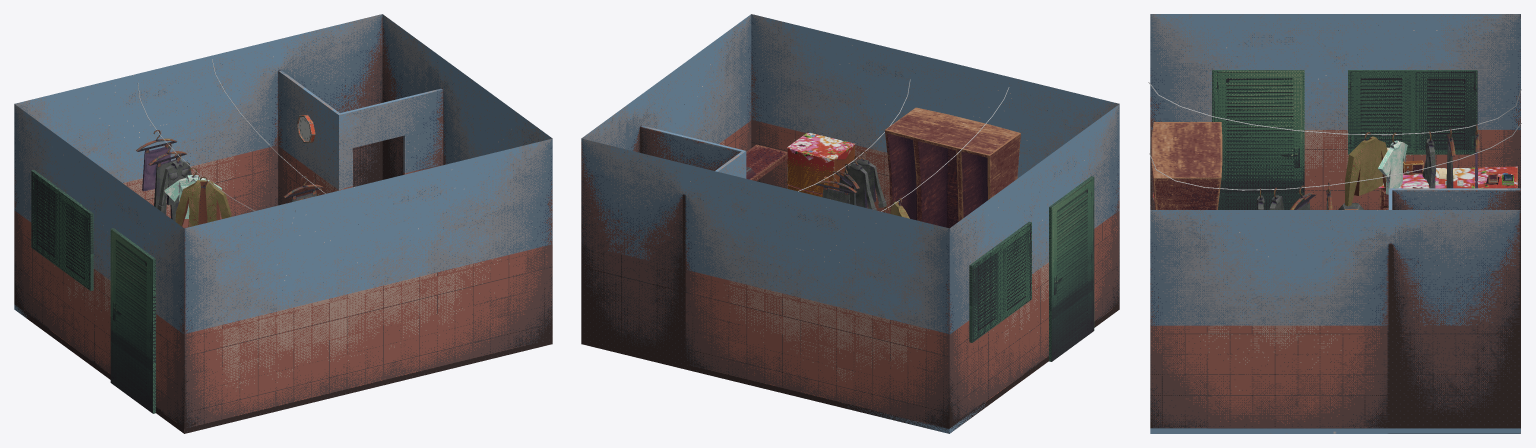
Rendered from Phong Quynh.fbx.
3 views of the same model, side by side, from view 1: azimuth 30°, elevation 25°; view 2: azimuth 150°, elevation 25°; view 3: azimuth 270°, elevation 25° (orthographic). The views are drawn at different scales.
Visible parts, largest first — view 1: floor, Cua chinh, Cuaso 1, Cuaso 2, ao khoac, quan short, ao bao ho, quan dai bao ho, somi; view 2: floor, tu do, Cua chinh, tu lanh, Cuaso 2, Cuaso 1, ke gia vi, ao bao ho.001, ao bao ho.002, quan dai bao ho.002; view 3: floor, Cua chinh, tu do, Cuaso 2, Cuaso 1, ao khoac, ban, somi, day phoi do, day phoi do.001, ao bao ho, quan dai bao ho.
Part boxes in pixels (x1=…): floor: x1=14, y1=14, x2=552, y2=433; Cua chinh: x1=110, y1=228, x2=155, y2=413; Cuaso 1: x1=61, y1=191, x2=93, y2=290; Cuaso 2: x1=31, y1=170, x2=63, y2=268; ao khoac: x1=175, y1=176, x2=231, y2=227; quan short: x1=136, y1=130, x2=176, y2=191; ao bao ho: x1=157, y1=153, x2=191, y2=211; quan dai bao ho: x1=148, y1=143, x2=186, y2=223; somi: x1=164, y1=167, x2=221, y2=218; floor: x1=581, y1=14, x2=1119, y2=433; tu do: x1=884, y1=107, x2=1020, y2=228; Cua chinh: x1=1049, y1=176, x2=1094, y2=361; tu lanh: x1=787, y1=132, x2=855, y2=197; Cuaso 2: x1=969, y1=243, x2=1001, y2=342; Cuaso 1: x1=999, y1=221, x2=1031, y2=320; ke gia vi: x1=746, y1=144, x2=787, y2=181; ao bao ho.001: x1=843, y1=155, x2=876, y2=210; ao bao ho.002: x1=850, y1=151, x2=886, y2=207; quan dai bao ho.002: x1=815, y1=171, x2=856, y2=203; floor: x1=1150, y1=14, x2=1520, y2=433; Cua chinh: x1=1212, y1=70, x2=1304, y2=209; tu do: x1=1151, y1=122, x2=1222, y2=209; Cuaso 2: x1=1413, y1=70, x2=1477, y2=154; Cuaso 1: x1=1348, y1=70, x2=1412, y2=154; ao khoac: x1=1345, y1=132, x2=1387, y2=206; ban: x1=1378, y1=166, x2=1517, y2=209; somi: x1=1378, y1=133, x2=1407, y2=194; day phoi do: x1=1148, y1=82, x2=1521, y2=135; day phoi do.001: x1=1149, y1=123, x2=1521, y2=190; ao bao ho: x1=1422, y1=131, x2=1435, y2=188; quan dai bao ho: x1=1446, y1=127, x2=1455, y2=188.
Bounding box in the file's own units: 756 × 406 × 605.
